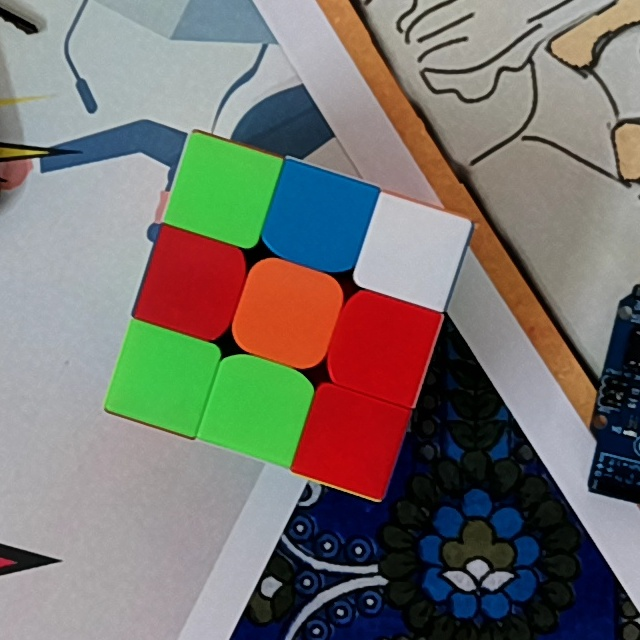tile: (343, 311, 419, 383), (155, 251, 228, 325), (248, 280, 323, 352), (282, 182, 356, 254), (182, 159, 259, 228), (126, 343, 199, 415), (217, 374, 294, 442), (375, 219, 449, 289), (315, 407, 387, 477)
